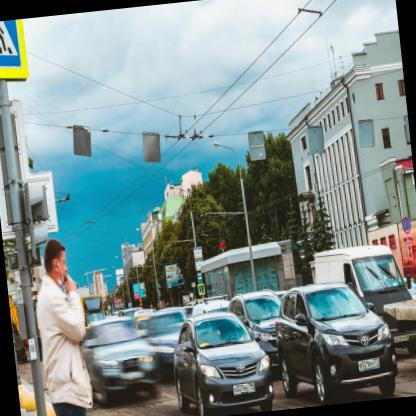car: (39, 54, 70, 86), (13, 62, 40, 90), (28, 57, 44, 80)
truck: (48, 46, 76, 76)
